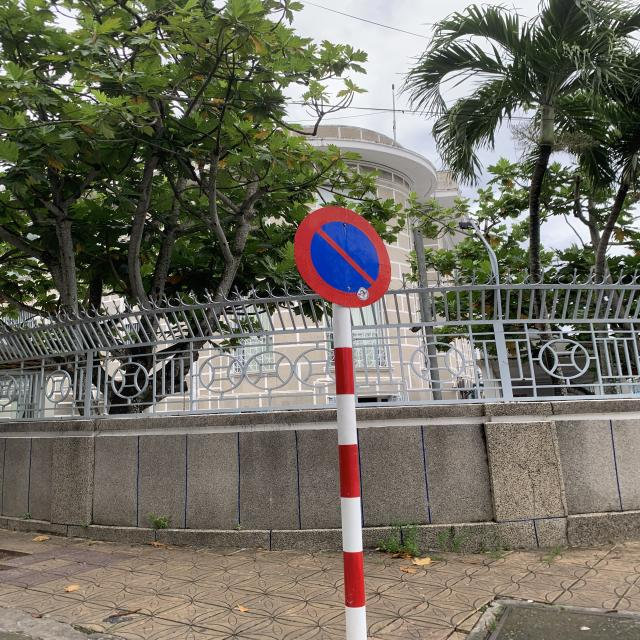Cam_Dau_Xe: (293, 206, 391, 308)
